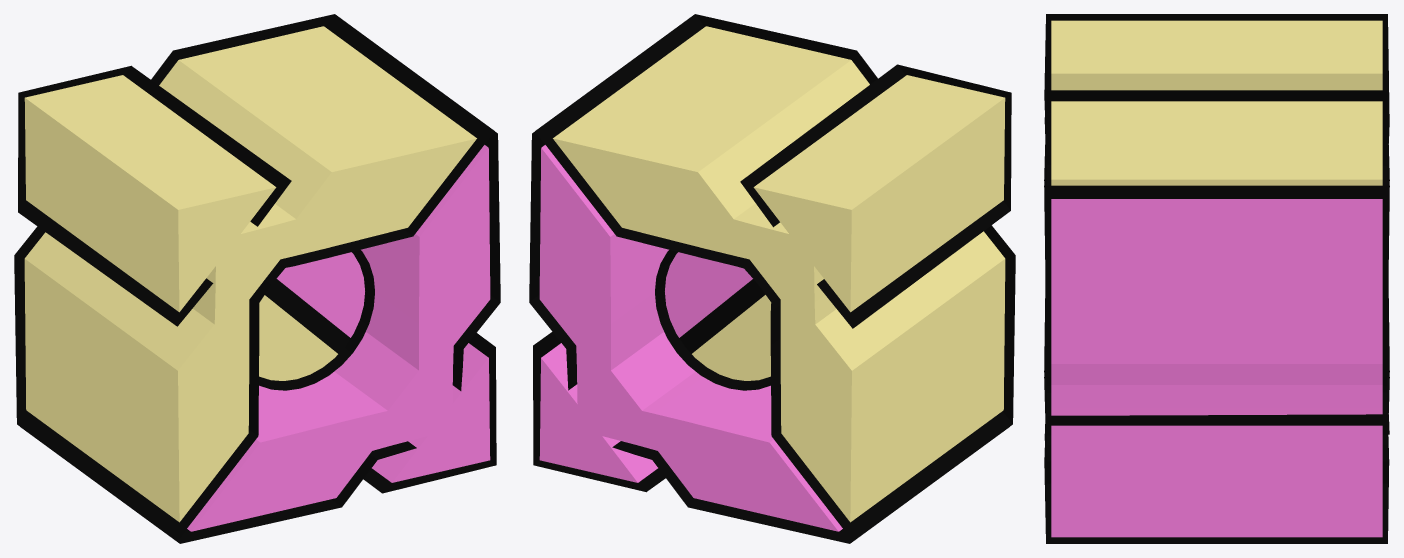
3 renders of one model, left to right at view 1: azimuth 30°, elevation 25°; view 2: azimuth 150°, elevation 25°; view 3: azimuth 270°, elevation 25°, orthographic. The views are drawn at different scales.
Visible parts, largest first — view 1: Cube_1, Cylinder_2; view 2: Cube_1, Cylinder_2; view 3: Cube_1.
Part boxes in pixels (bbox=[...]): Cube_1: bbox=[14, 14, 500, 543]; Cylinder_2: bbox=[259, 250, 374, 390]; Cube_1: bbox=[529, 14, 1015, 543]; Cylinder_2: bbox=[655, 250, 771, 390]; Cube_1: bbox=[1044, 14, 1389, 543].
Size of the model in its own units: 4.74 by 4.74 by 3.99.
